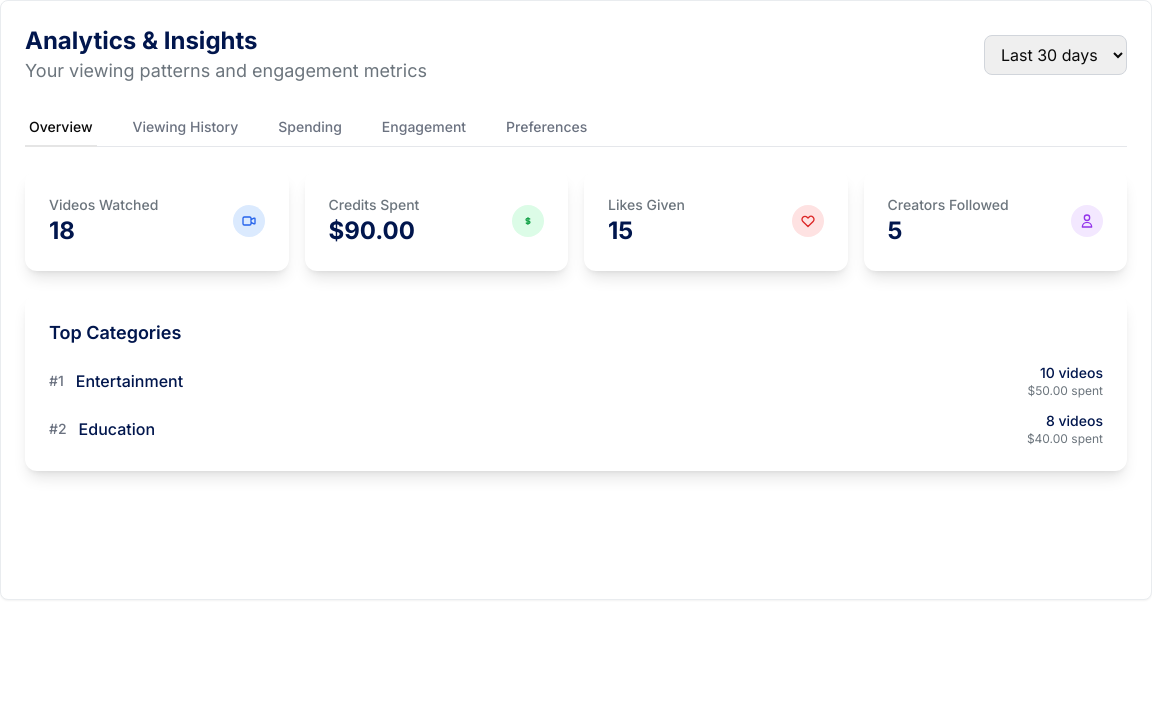
Test: MemberAnalytics › switches between tabs correctly
Expected: the heading "Analytics & Insights" is shown, [25,26,258,55]
Click the button "Viewing History". click: {"x": 185, "y": 128}
box: [128,109,242,147]
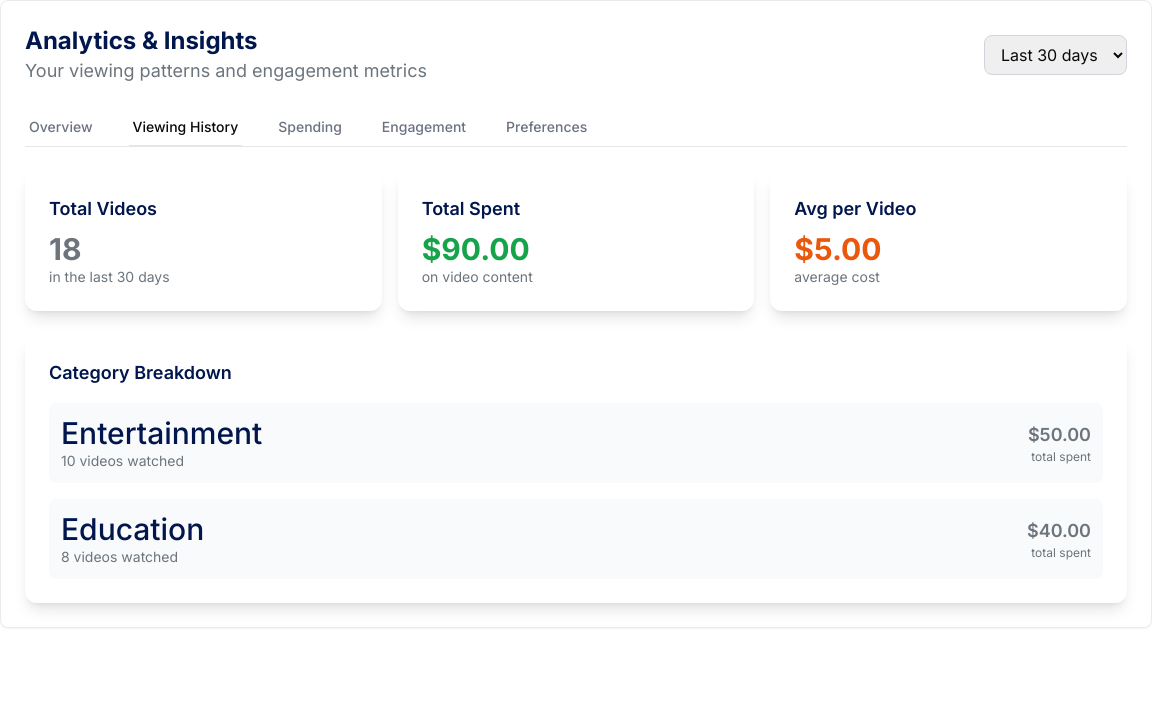
Now the heading "Total Videos" is shown, box [49,198,157,219]
Now the heading "Total Spent" is shown, box [422,198,520,219]
Now the heading "Avg per Video" is shown, box [794,198,916,219]
Click the button "Spending". click: {"x": 310, "y": 128}
box: [274,109,346,147]
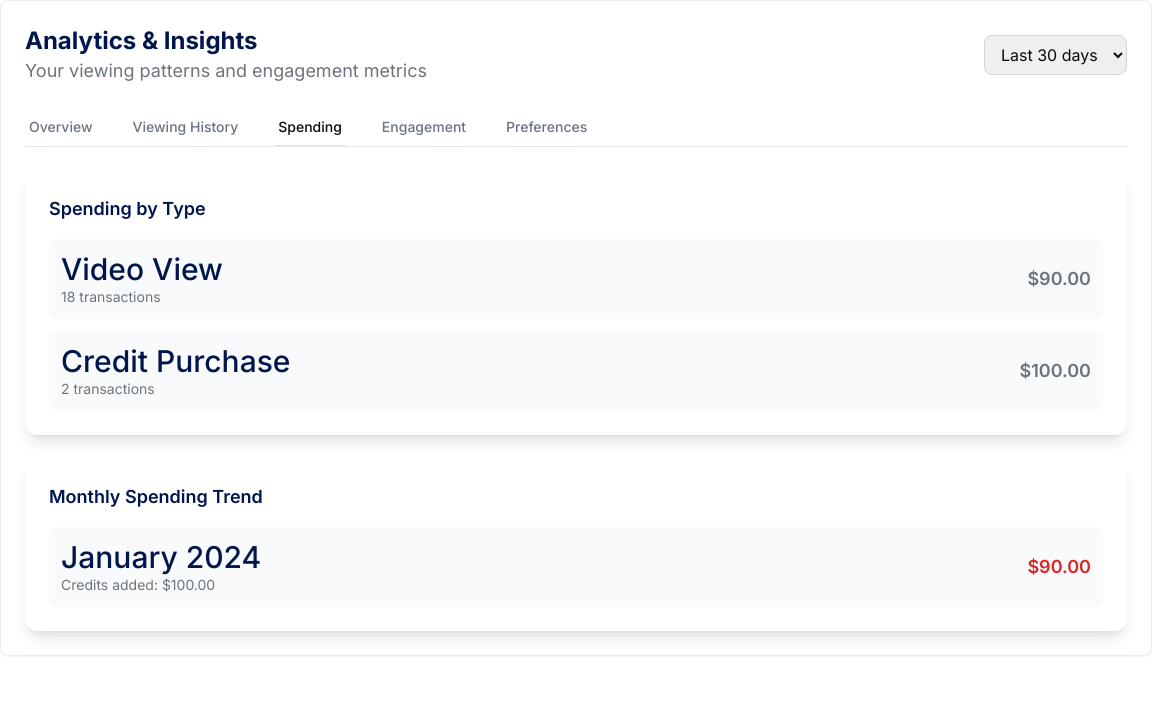
Now the heading "Spending by Type" is shown, box [49,198,206,219]
Click the button "Engagement". click: {"x": 424, "y": 128}
box: [378,109,470,147]
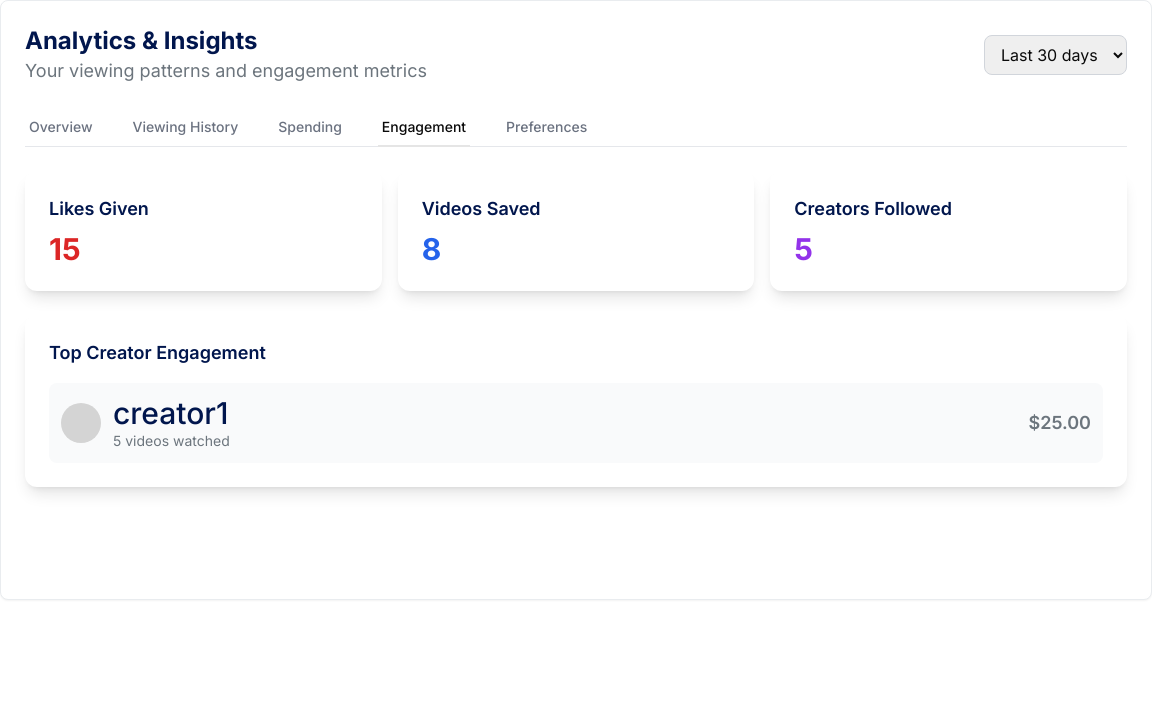
Now the heading "Likes Given" is shown, box [49,198,149,219]
Now the heading "Top Creator Engagement" is shown, box [49,342,266,363]
Click the button "Preferences". click: {"x": 547, "y": 128}
box: [502,109,591,147]
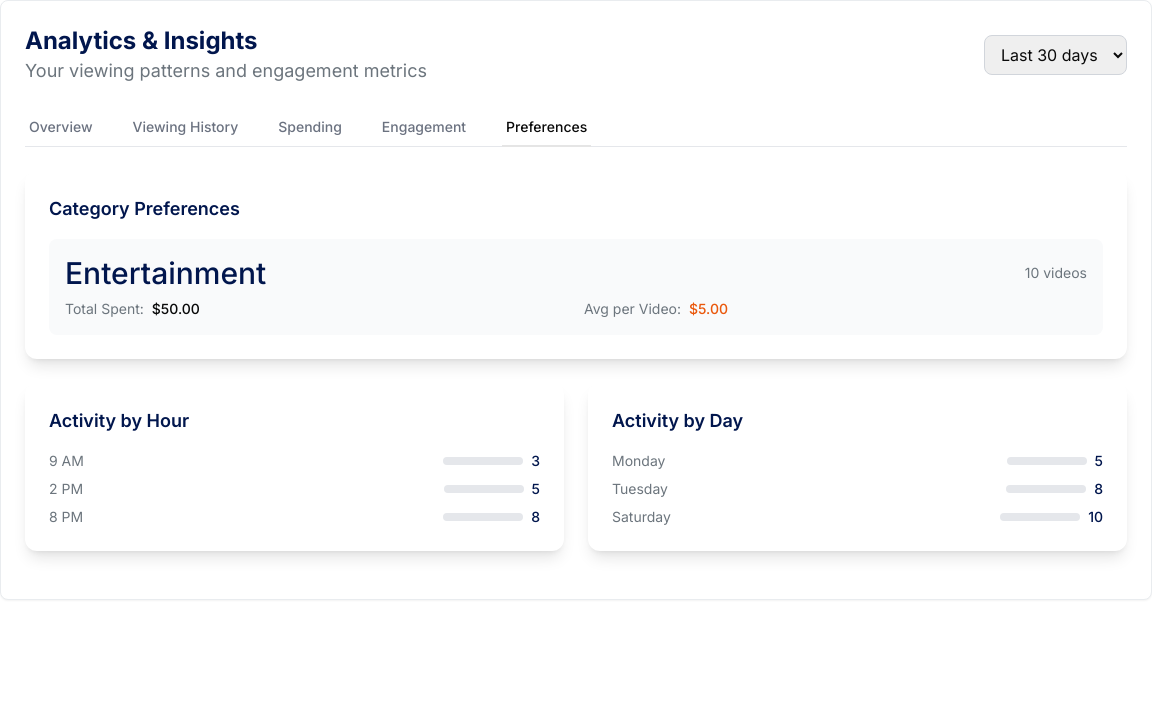
Now the heading "Category Preferences" is shown, box [49,198,240,219]
Now the heading "Activity by Hour" is shown, box [49,410,189,431]
Now the heading "Activity by Day" is shown, box [612,410,743,431]
